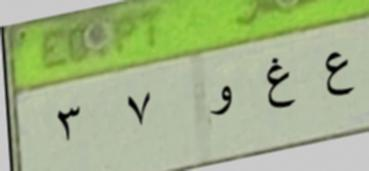3: (54, 102, 86, 146)
7: (123, 88, 156, 128)
ain: (317, 48, 355, 105)
ghayn: (260, 54, 298, 112)
waw: (206, 85, 234, 121)
